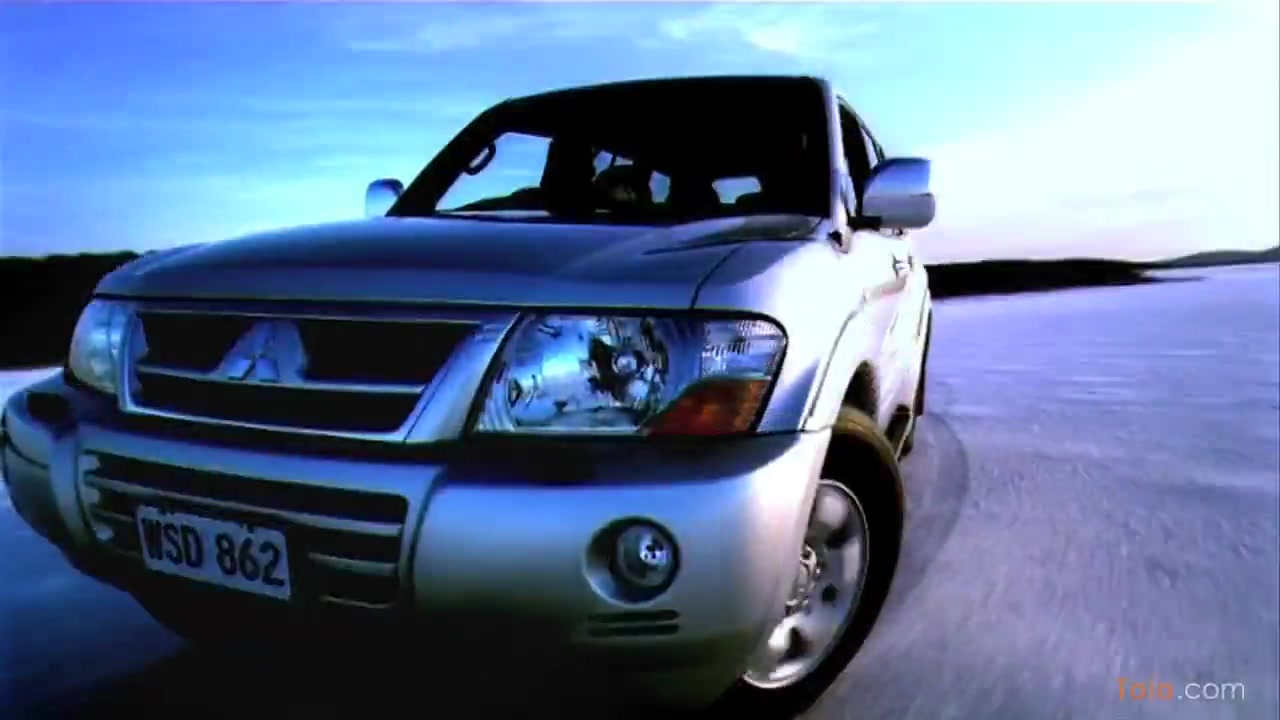car: (4, 77, 939, 720)
